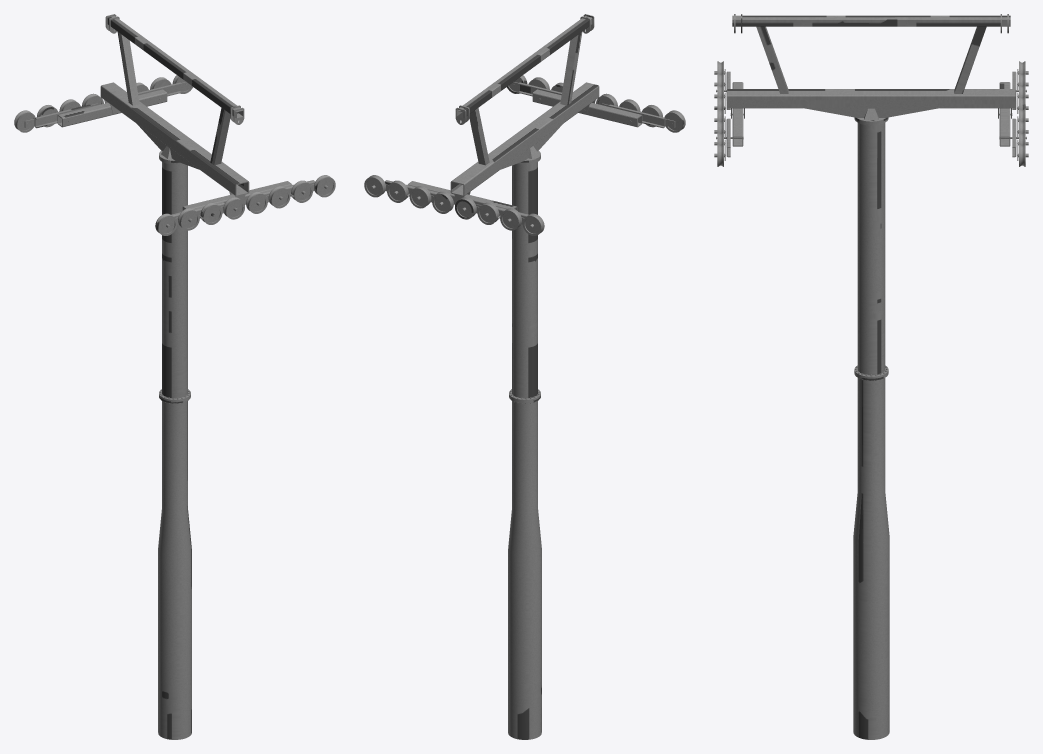
File: pylone3.fbx
3 views of the same model, side by side, from view 1: azimuth 30°, elevation 25°; view 2: azimuth 150°, elevation 25°; view 3: azimuth 270°, elevation 25° (orthographic). The views are drawn at different scales.
Parts seen in each view (by area): view 1: Cylinder.008; view 2: Cylinder.008; view 3: Cylinder.008.
Boxes of the visible parts, bbox=[...] form: Cylinder.008: bbox=[14, 14, 335, 739]; Cylinder.008: bbox=[364, 14, 685, 739]; Cylinder.008: bbox=[714, 14, 1028, 739].
Bounding box in the file's own units: 11.3 × 7.85 × 28.37.
